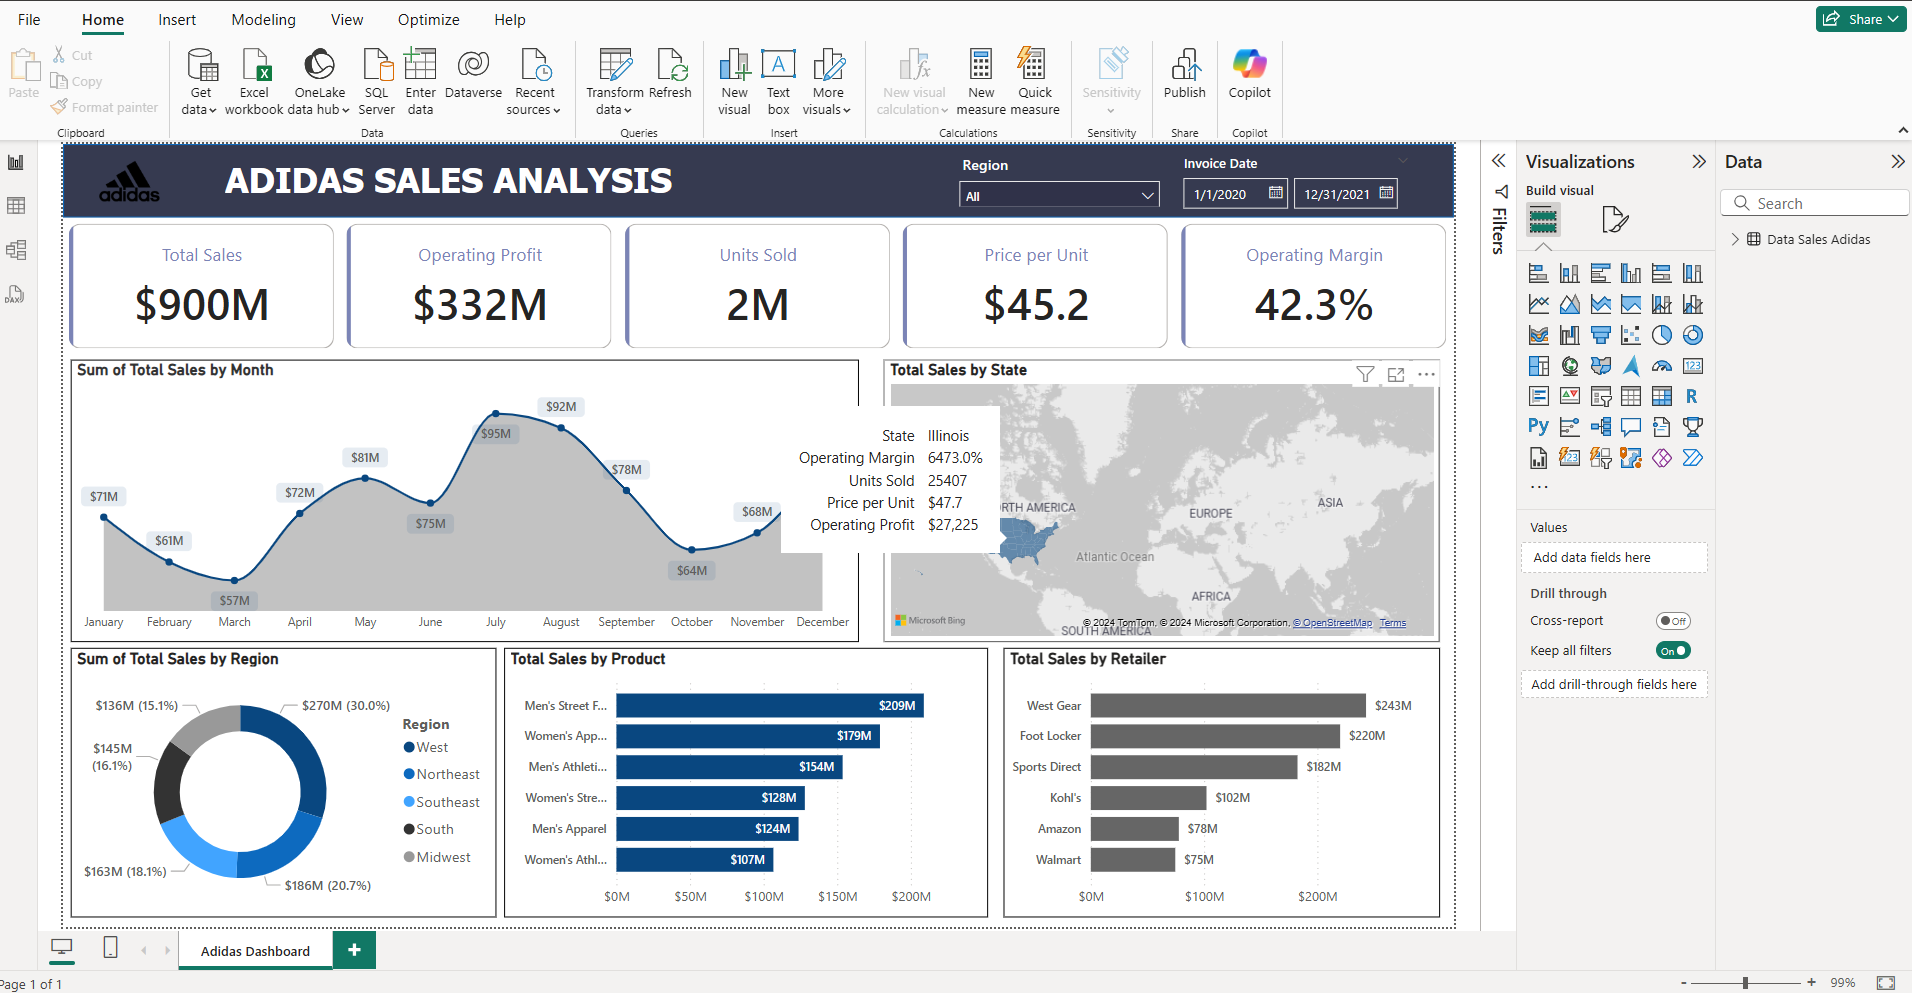

The page's visual inventory and layout, read from the dashboard file:
{"tool":"powerbi","page":{"name":"Adidas Dashboard","canvas":[1280,720],"ordinal":0},"visuals":[{"type":"shape","box":[0,0,1280,67.8],"z":0},{"type":"textbox","box":[143.3,7.8,431.1,52.2],"z":1000},{"type":"image","box":[24.4,10,74.4,47.8],"z":2000},{"type":"cardVisual","fields":{"Data":["Sum(Data Sales Adidas.Total Sales)","Sum(Data Sales Adidas.Operating Profit)","Sum(Data Sales Adidas.Units Sold)","Avg(Data Sales Adidas.Price per Unit)","Avg(Data Sales Adidas.Operating Margin)"]},"box":[0,67.8,1280,125.6],"z":3000},{"type":"areaChart","fields":{"Category":["Data Sales Adidas.Invoice Date.Variation.Date Hierarchy.Month"],"Y":["Sum(Data Sales Adidas.Total Sales)"]},"box":[6.7,198.9,725.6,260],"z":4000},{"type":"filledMap","title":"Total Sales by State","fields":{"Category":["Data Sales Adidas.State"],"Y":["Sum(Data Sales Adidas.Total Sales)"]},"box":[755.6,198.9,512.2,260],"z":5000},{"type":"donutChart","fields":{"Category":["Data Sales Adidas.Region"],"Y":["Sum(Data Sales Adidas.Total Sales)"]},"box":[6.7,463.3,392.2,247.8],"z":6000},{"type":"barChart","title":"Total Sales by Product","fields":{"Category":["Data Sales Adidas.Product"],"Y":["Sum(Data Sales Adidas.Total Sales)"]},"box":[405.6,463.3,445.6,247.8],"z":7000},{"type":"barChart","title":"Total Sales by Retailer","fields":{"Y":["Sum(Data Sales Adidas.Total Sales)"],"Category":["Data Sales Adidas.Retailer"]},"box":[865.6,463.3,402.2,247.8],"z":8000},{"type":"slicer","fields":{"Values":["Data Sales Adidas.Region"]},"box":[814.4,4.4,204.4,53.3],"z":9000},{"type":"slicer","fields":{"Values":["Data Sales Adidas.Invoice Date"]},"box":[1018.9,4.4,232.2,60],"z":10000}]}

Visuals, with their boxes on the page's 1280x720 design canvas (x1, y1, x2, y2). These are canvas units, not pixel positions in the 1912x993 screenshot, which may show the page scaled, cropped or inside an application window:
shape: bbox=[0, 0, 1280, 68]
textbox: bbox=[143, 8, 574, 60]
image: bbox=[24, 10, 99, 58]
cardVisual - Sum(Data Sales Adidas.Total Sales) x Sum(Data Sales Adidas.Operating Profit): bbox=[0, 68, 1280, 193]
areaChart - Data Sales Adidas.Invoice Date.Variation.Date Hierarchy.Month x Sum(Data Sales Adidas.Total Sales): bbox=[7, 199, 732, 459]
"Total Sales by State" filledMap: bbox=[756, 199, 1268, 459]
donutChart - Data Sales Adidas.Region x Sum(Data Sales Adidas.Total Sales): bbox=[7, 463, 399, 711]
"Total Sales by Product" barChart: bbox=[406, 463, 851, 711]
"Total Sales by Retailer" barChart: bbox=[866, 463, 1268, 711]
slicer - Data Sales Adidas.Region: bbox=[814, 4, 1019, 58]
slicer - Data Sales Adidas.Invoice Date: bbox=[1019, 4, 1251, 64]
